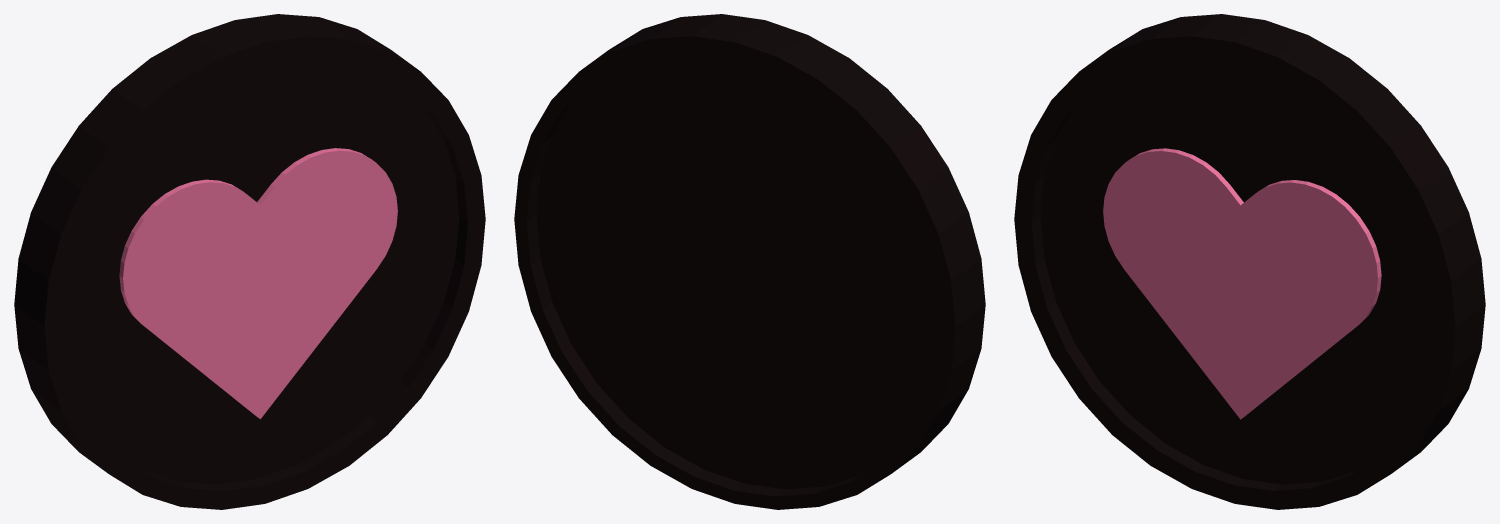
The model's file is coin.fbx.
3 renders of one model, left to right at view 1: azimuth 30°, elevation 25°; view 2: azimuth 150°, elevation 25°; view 3: azimuth 330°, elevation 25°, orthographic.
Parts seen in each view (by area): view 1: Circle; view 2: Circle; view 3: Circle.
Boxes of the visible parts, x1,y1,x2,y2 form: Circle: (14, 14, 485, 509); Circle: (514, 14, 985, 509); Circle: (1014, 14, 1485, 509).
Size of the model in its own units: 200 by 200 by 23.77.
